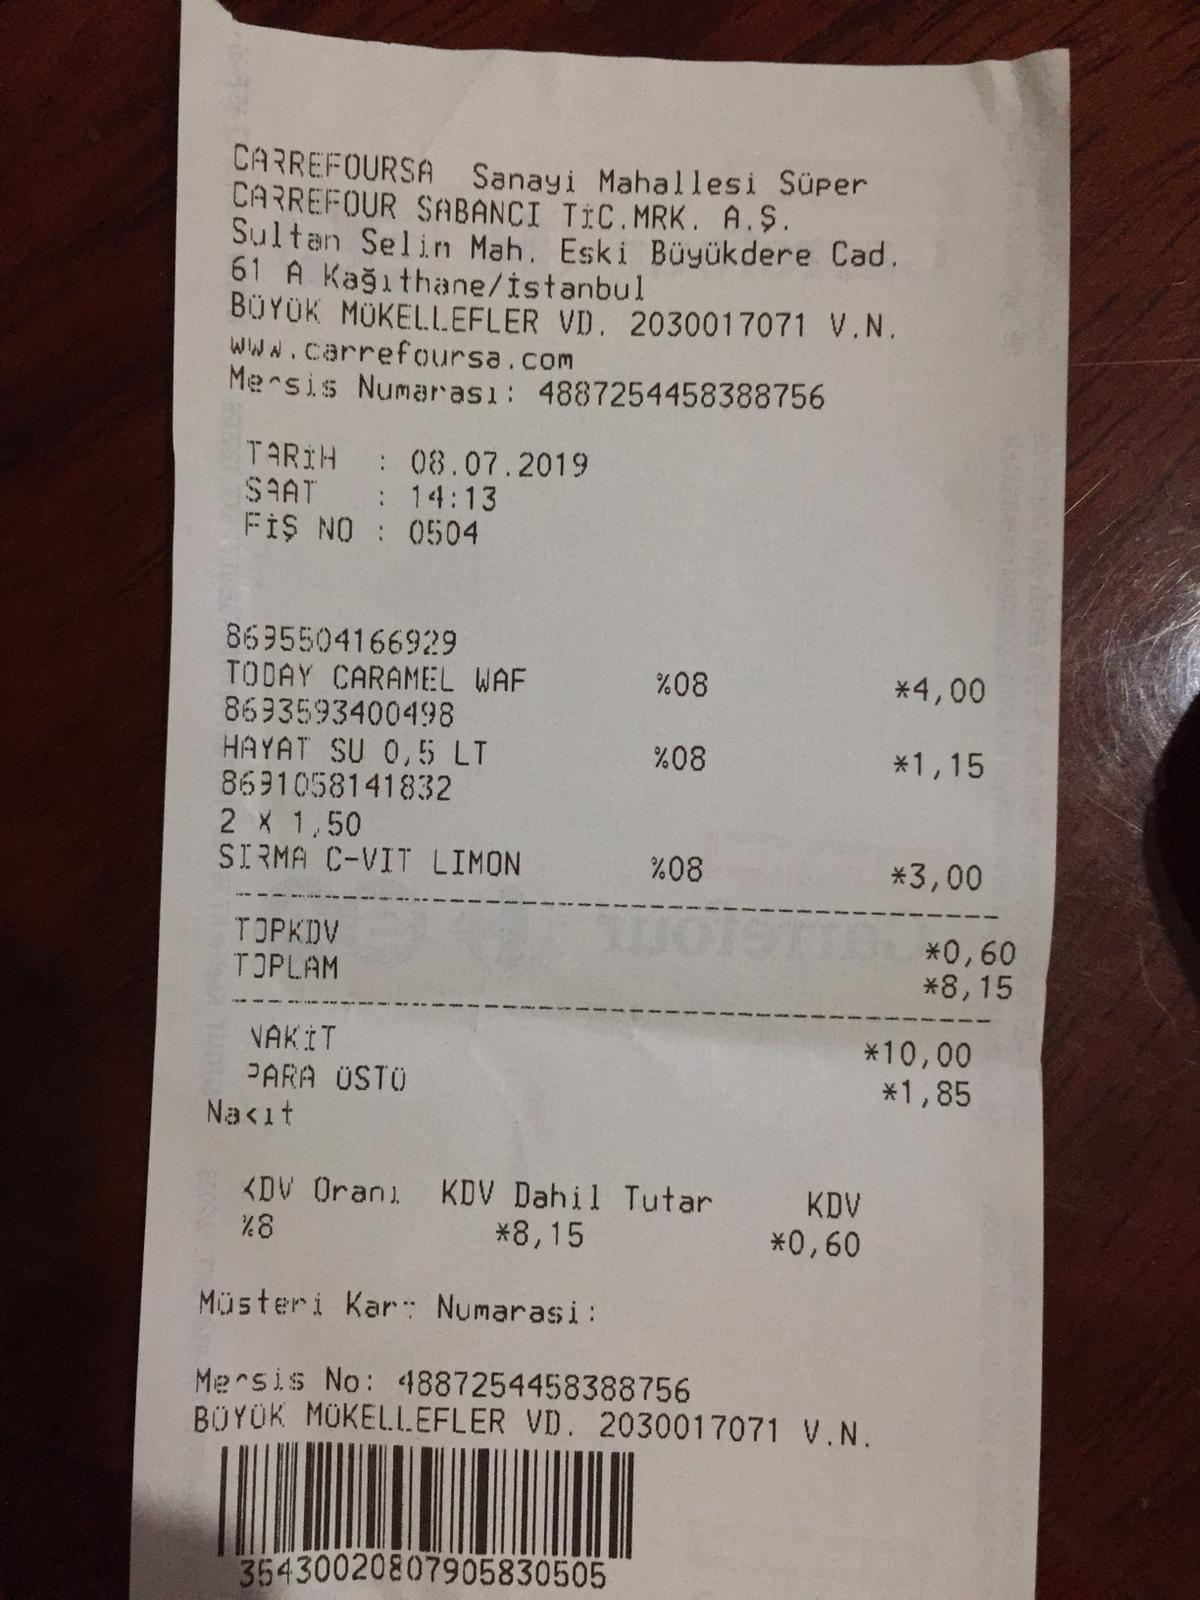total: (228, 945, 1031, 1013)
